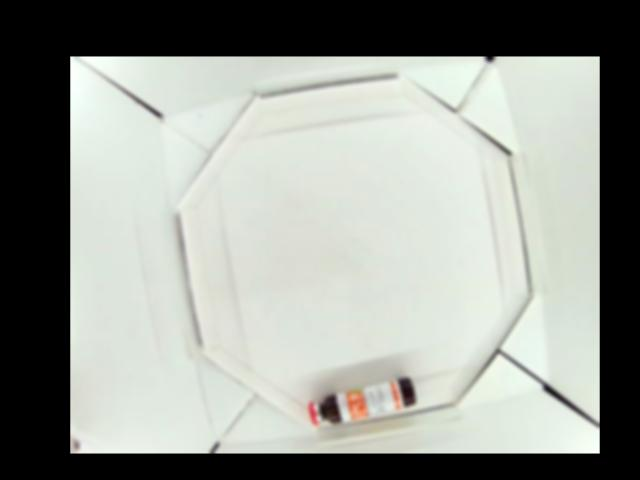Medicine: (309, 377, 418, 425)
